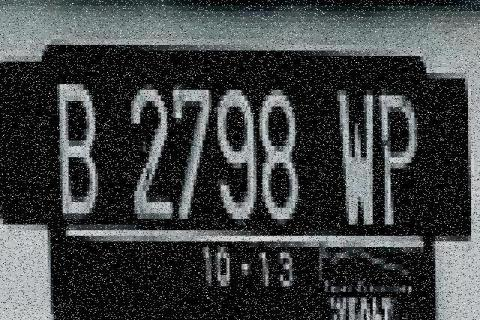LicensePlate: (41, 39, 432, 320)
